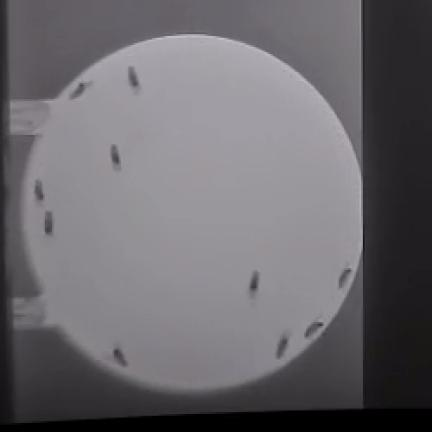fly: (70, 81, 91, 98), (277, 333, 290, 358), (305, 321, 324, 338), (113, 348, 127, 367), (128, 67, 139, 91), (249, 272, 259, 296), (339, 269, 352, 287), (111, 144, 120, 169), (44, 211, 53, 235), (35, 180, 44, 201)
